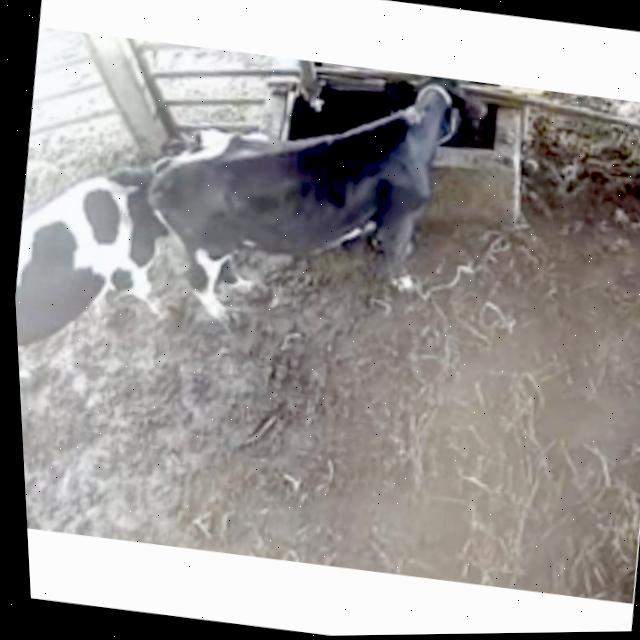drink: (316, 60, 510, 192)
